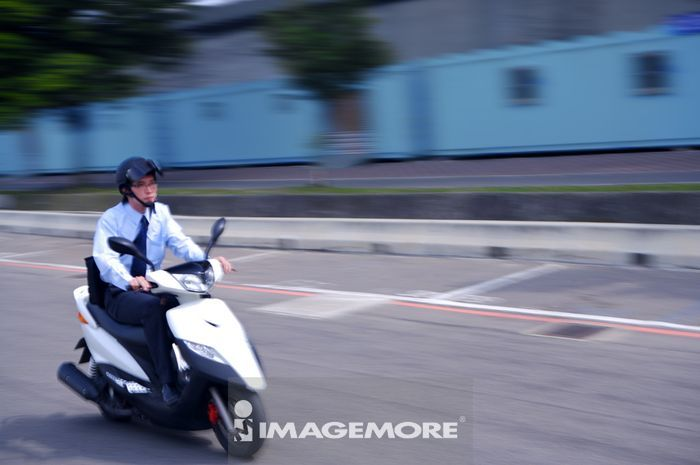helmet: (108, 159, 159, 187)
